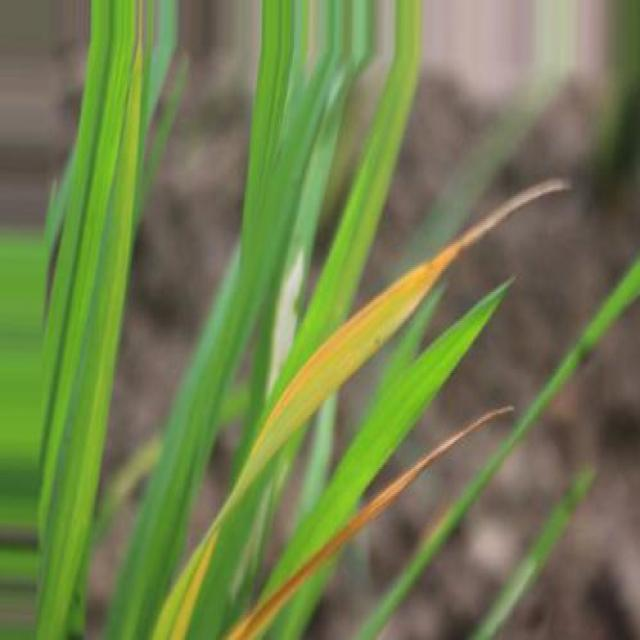Rice Tungro: (152, 181, 566, 639), (228, 408, 512, 638)
